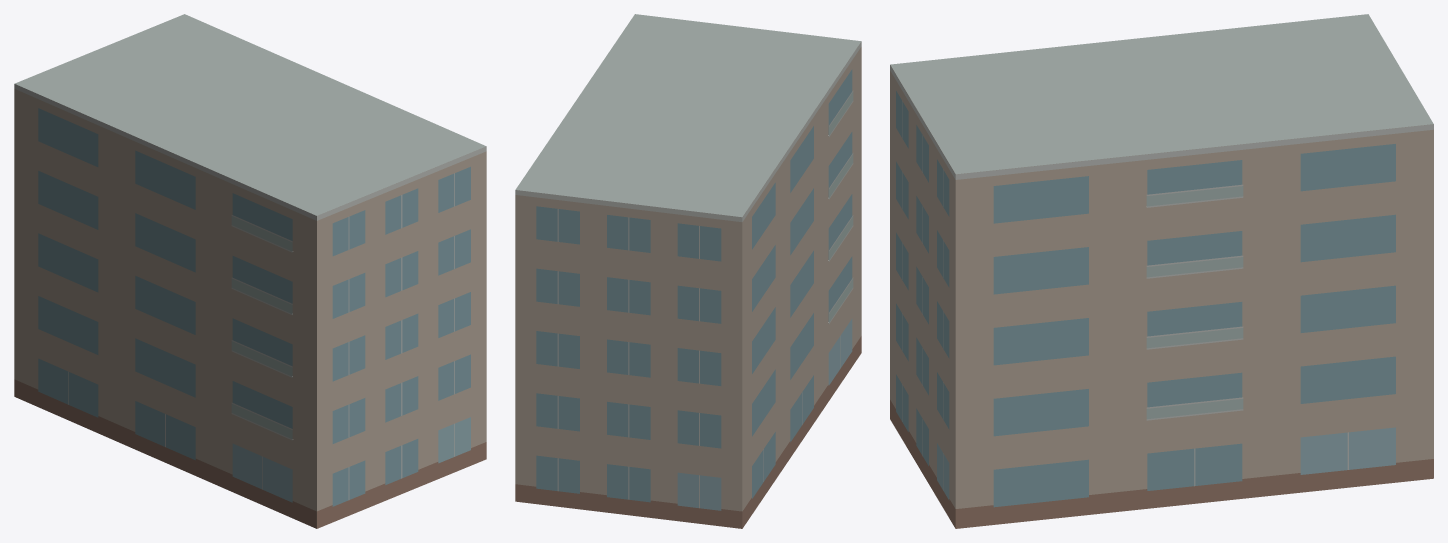
Rendered from survey-upis-32881976.glb.
3 renders of one model, left to right at view 1: azimuth 30°, elevation 25°; view 2: azimuth 150°, elevation 25°; view 3: azimuth 270°, elevation 25°, orthographic. The views are drawn at different scales.
Visible parts, largest first — view 1: survey-upis-32881976.tmp; view 2: survey-upis-32881976.tmp; view 3: survey-upis-32881976.tmp.
Boxes of the visible parts, <box> form: survey-upis-32881976.tmp: <box>14,14,486,528</box>; survey-upis-32881976.tmp: <box>515,14,861,528</box>; survey-upis-32881976.tmp: <box>890,14,1433,528</box>.
Size of the model in its own units: 14.85 by 15.3 by 21.27.
